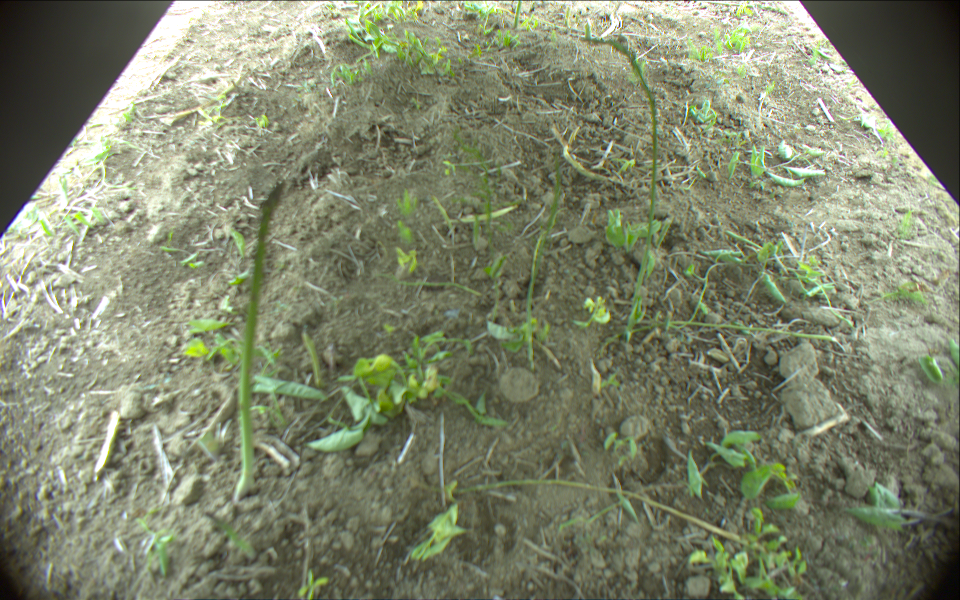aspa: (579, 33, 659, 337), (447, 481, 765, 551), (238, 181, 284, 495), (601, 319, 838, 344), (523, 208, 553, 368), (92, 409, 121, 477), (513, 1, 524, 28)
